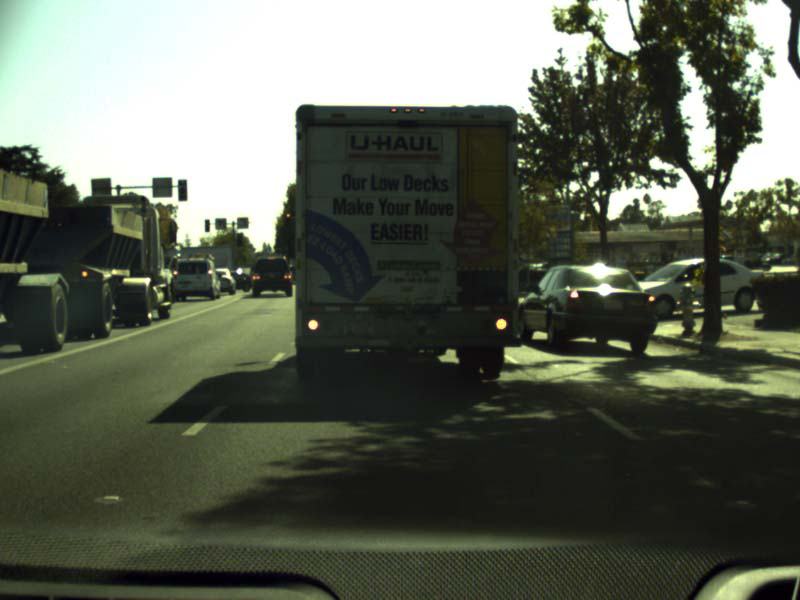Red: (283, 210, 291, 223)
